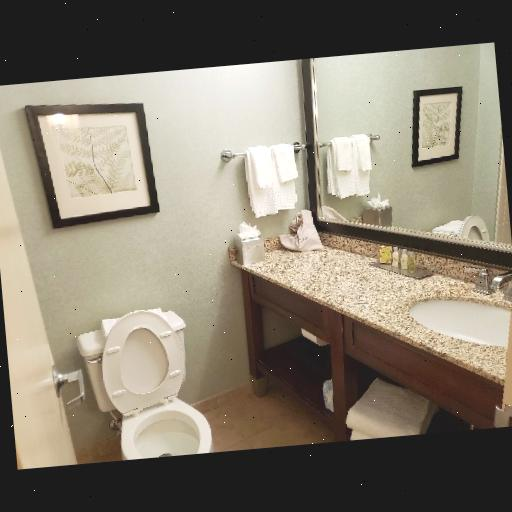clean mirror: (302, 40, 512, 256)
clean_sink: (226, 215, 512, 422)
clean_toilet: (66, 302, 214, 472)
folded_towel: (244, 144, 301, 216)
